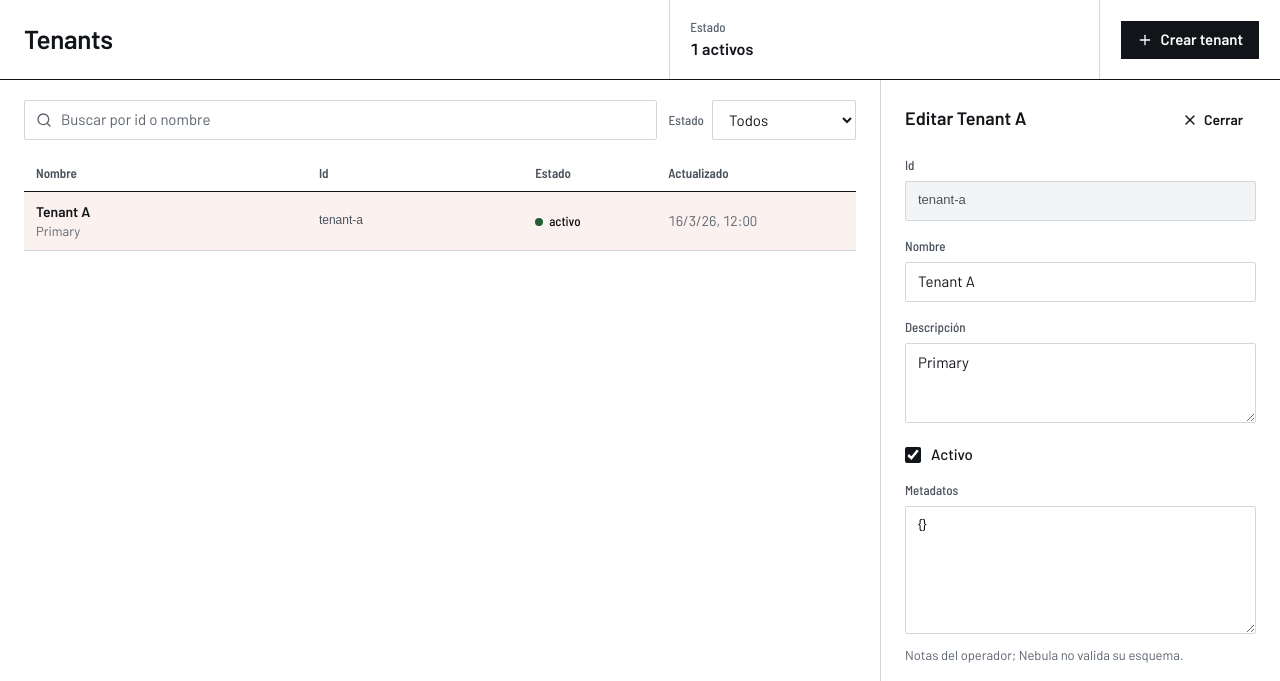
Test: tenants page › opens the first tenant for editing and closes the drawer with Cerrar
The width and height of the screenshot is (1280, 681).
Expected: the heading "Editar Tenant A" is shown, [905,104,1026,132]
Click the button "Cerrar".
click(1212, 120)  # box [1169,104,1256,136]
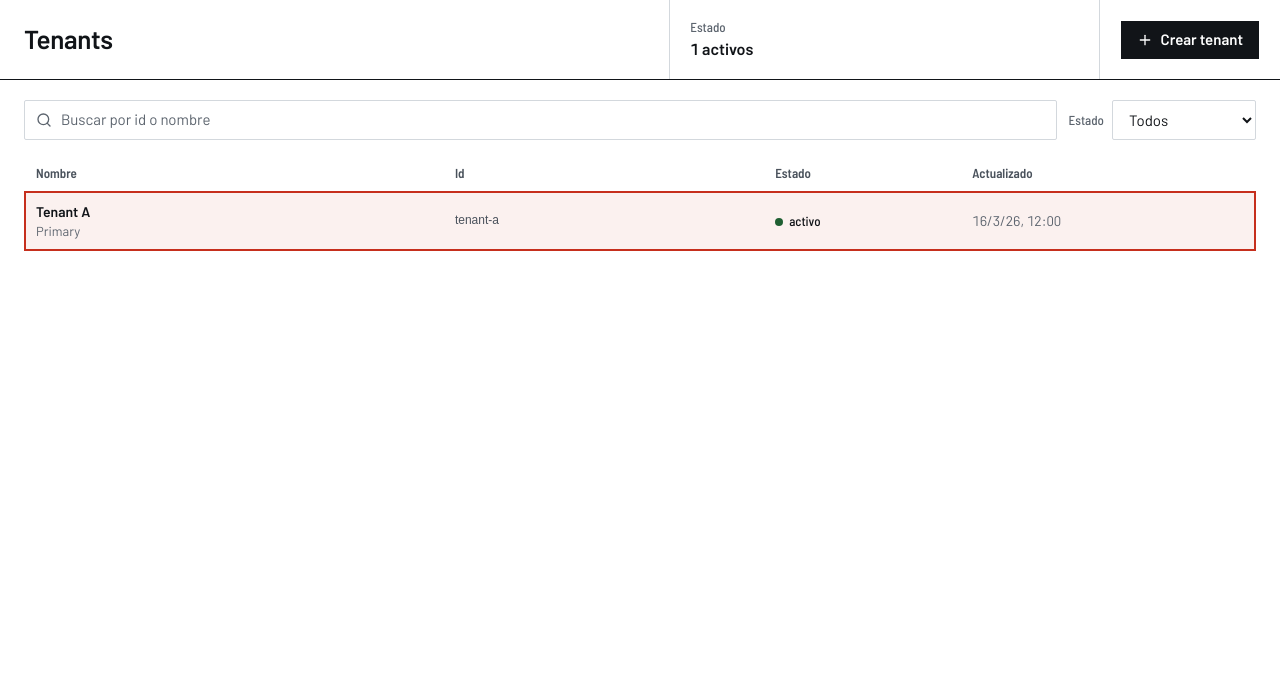
Expected: the table named "Tenants" is shown, [24,156,1256,251]
Result: the heading "Editar Tenant A" is gone
